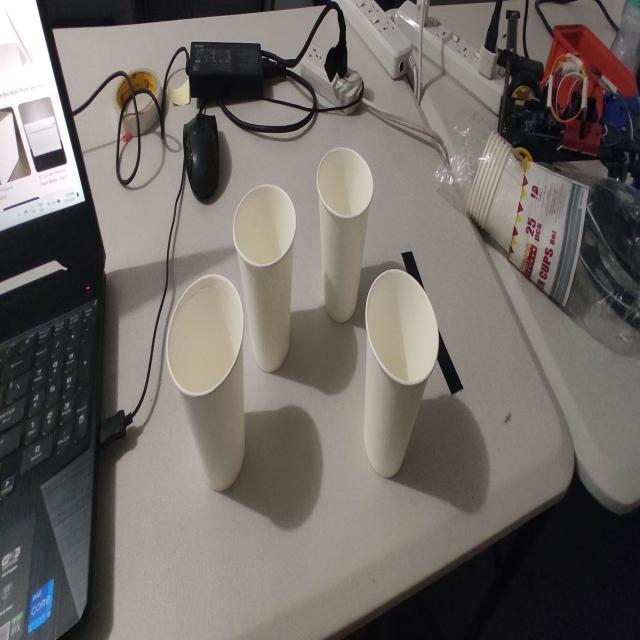styrofoam: (166, 275, 245, 491), (364, 269, 439, 477), (234, 183, 296, 372), (318, 147, 372, 322)
